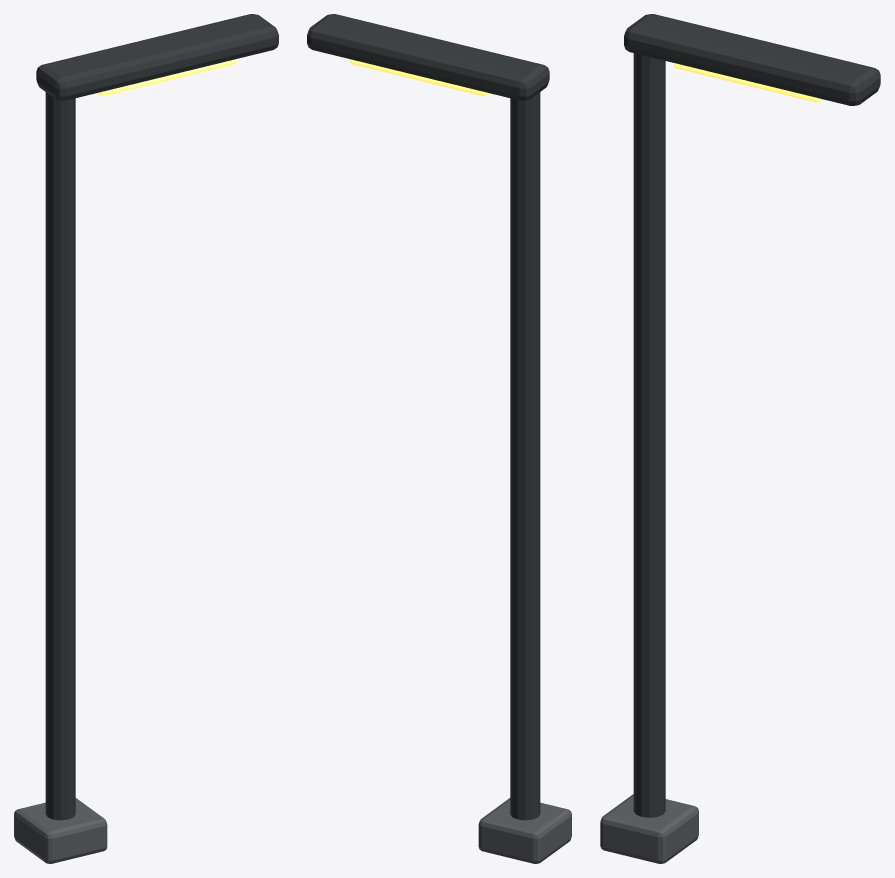
File: streetlight.glb
3 views of the same model, side by side, from view 1: azimuth 30°, elevation 25°; view 2: azimuth 150°, elevation 25°; view 3: azimuth 330°, elevation 25° (orthographic). The views are drawn at different scales.
Parts seen in each view (by area): view 1: Streetlight; view 2: Streetlight; view 3: Streetlight.
Part boxes in pixels (x1,y1,x2,y2): Streetlight: (14, 14, 278, 863); Streetlight: (307, 14, 571, 863); Streetlight: (600, 14, 880, 863).
Size of the model in its own units: 1.93 by 5.98 by 0.5.
